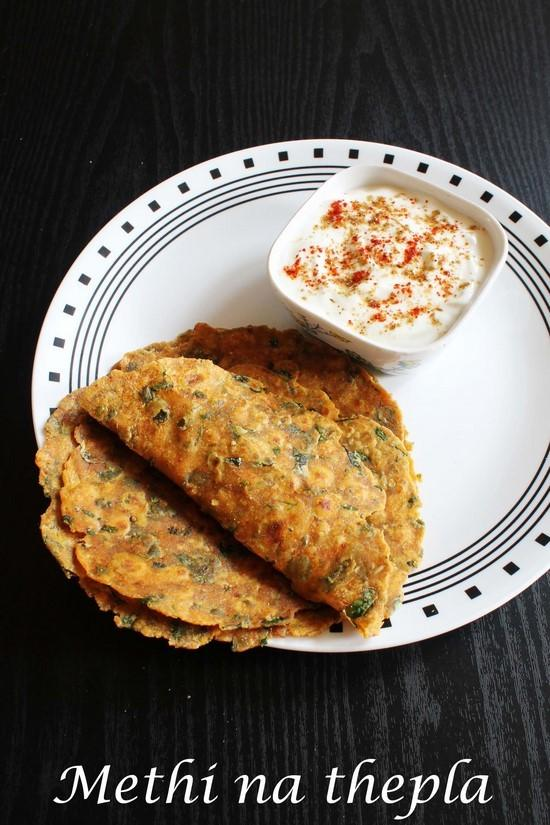thepla: (93, 335, 376, 630)
yogurt: (283, 179, 455, 337)
